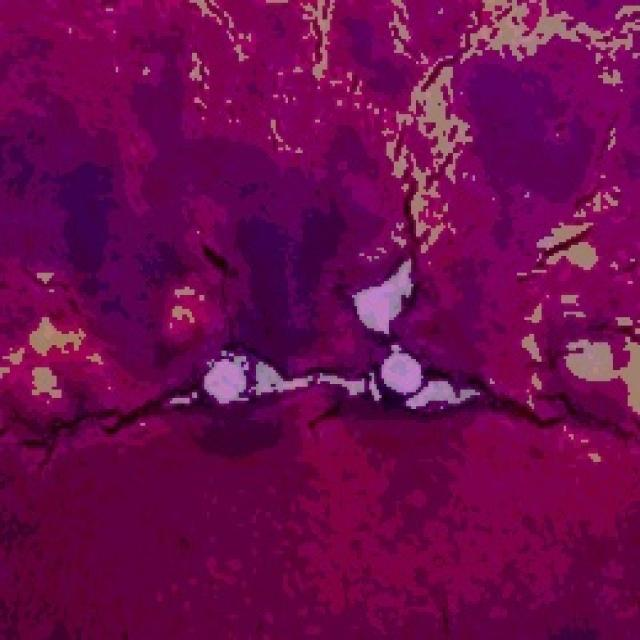crack: (54, 373, 195, 451), (402, 167, 456, 240)
